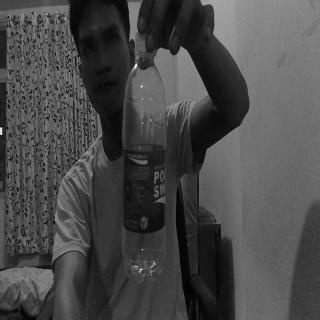plastic_bottles: (122, 33, 165, 285)
